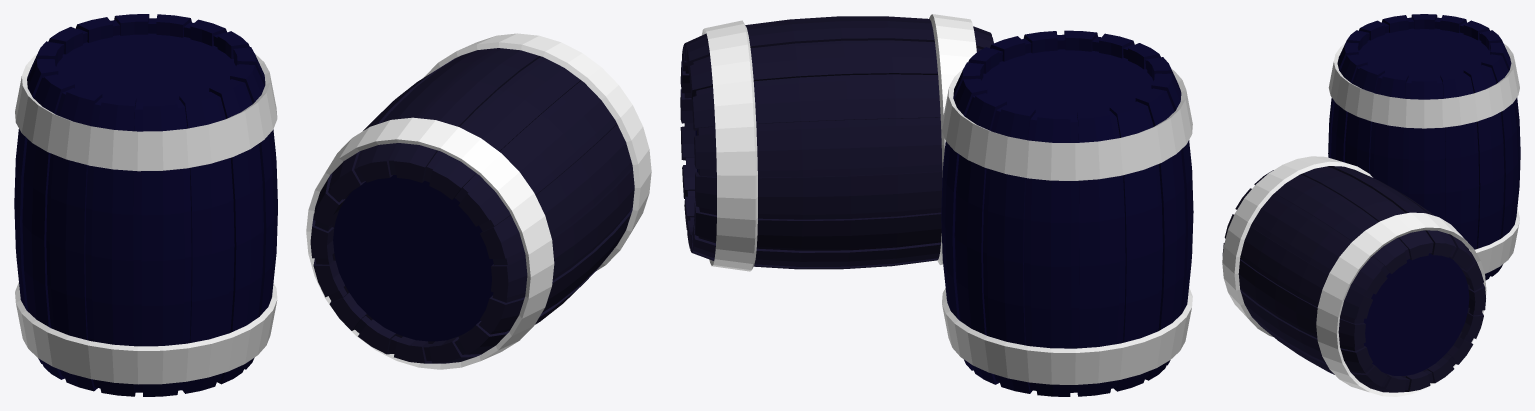
File: Barel_Final.fbx
3 renders of one model, left to right at view 1: azimuth 30°, elevation 25°; view 2: azimuth 150°, elevation 25°; view 3: azimuth 270°, elevation 25°, orthographic. The views are drawn at different scales.
Parts seen in each view (by area): view 1: Cylinder, Cylinder.004, Cylinder.001, Cylinder.002, Cylinder.005, Cylinder.003; view 2: Cylinder, Cylinder.004, Cylinder.001, Cylinder.005, Cylinder.003; view 3: Cylinder.004, Cylinder, Cylinder.005, Cylinder.002, Cylinder.001, Cylinder.003.
Part boxes in pixels (left/top/right/bottom): Cylinder: left=14, top=14, right=277, bottom=396; Cylinder.004: left=310, top=48, right=634, bottom=363; Cylinder.001: left=15, top=54, right=277, bottom=384; Cylinder.002: left=333, top=175, right=493, bottom=341; Cylinder.005: left=306, top=33, right=651, bottom=369; Cylinder.003: left=56, top=34, right=235, bottom=102; Cylinder: left=941, top=30, right=1193, bottom=396; Cylinder.004: left=680, top=16, right=993, bottom=269; Cylinder.001: left=942, top=68, right=1192, bottom=384; Cylinder.005: left=701, top=14, right=976, bottom=271; Cylinder.003: left=981, top=50, right=1153, bottom=115; Cylinder.004: left=1222, top=166, right=1485, bottom=392; Cylinder: left=1328, top=14, right=1520, bottom=280; Cylinder.005: left=1222, top=156, right=1486, bottom=396; Cylinder.002: left=1363, top=253, right=1469, bottom=375; Cylinder.001: left=1328, top=43, right=1519, bottom=273; Cylinder.003: left=1358, top=29, right=1489, bottom=77.
Size of the model in its own units: 863 by 430 by 540.
